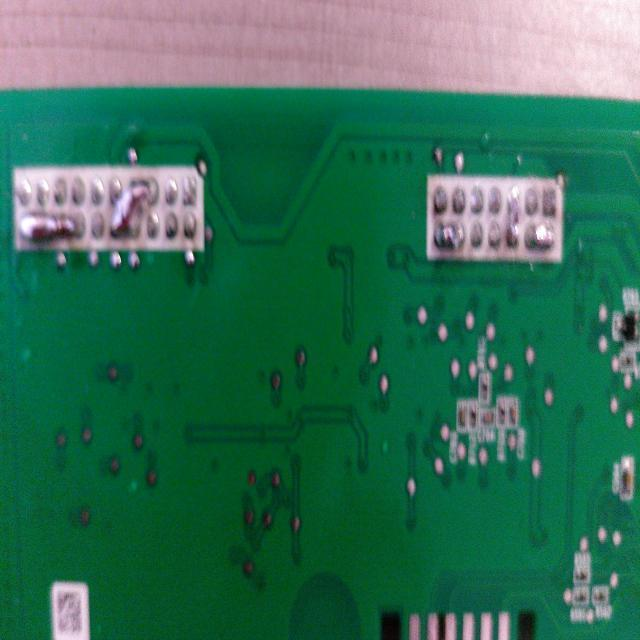Soldering shorted: (106, 169, 160, 244), (17, 210, 84, 244), (506, 185, 524, 250), (525, 221, 559, 253), (433, 221, 467, 249)
